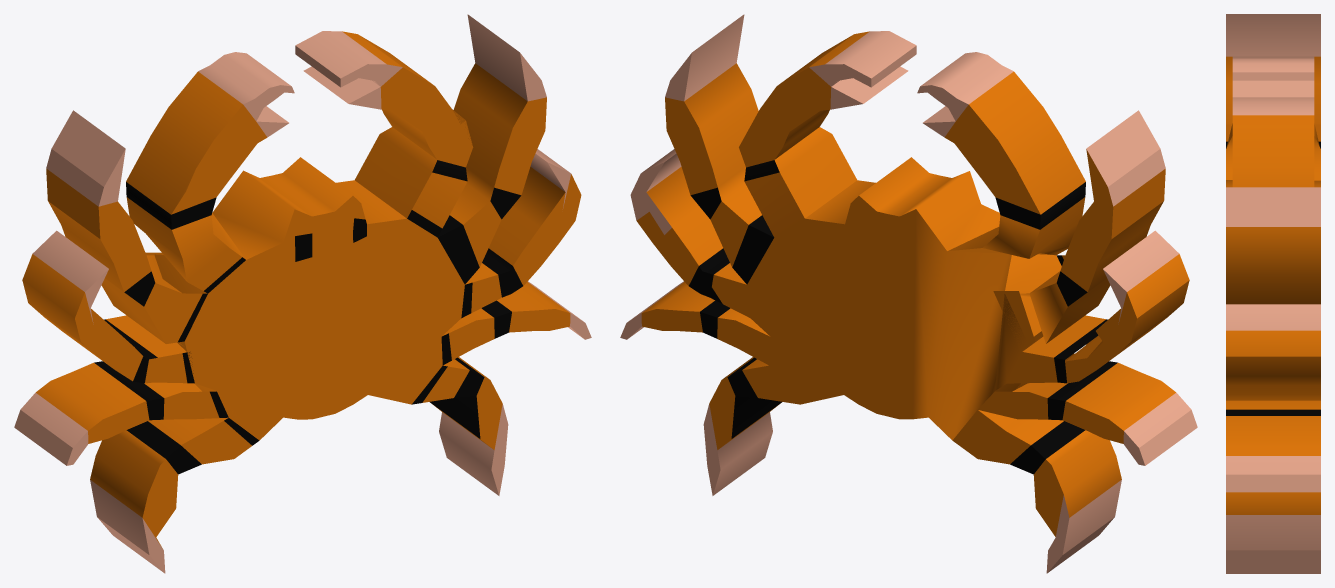
Rendered from red_crab.fbx.
3 views of the same model, side by side, from view 1: azimuth 30°, elevation 25°; view 2: azimuth 150°, elevation 25°; view 3: azimuth 270°, elevation 25° (orthographic). The views are drawn at different scales.
Parts seen in each view (by area): view 1: crab_red; view 2: crab_red; view 3: crab_red.
Boxes of the visible parts, left/top/right/bottom form: crab_red: left=14, top=14, right=591, bottom=573; crab_red: left=620, top=14, right=1197, bottom=573; crab_red: left=1226, top=14, right=1320, bottom=573.
Bounding box in the file's own units: 62.56 × 52.47 × 10.83.
